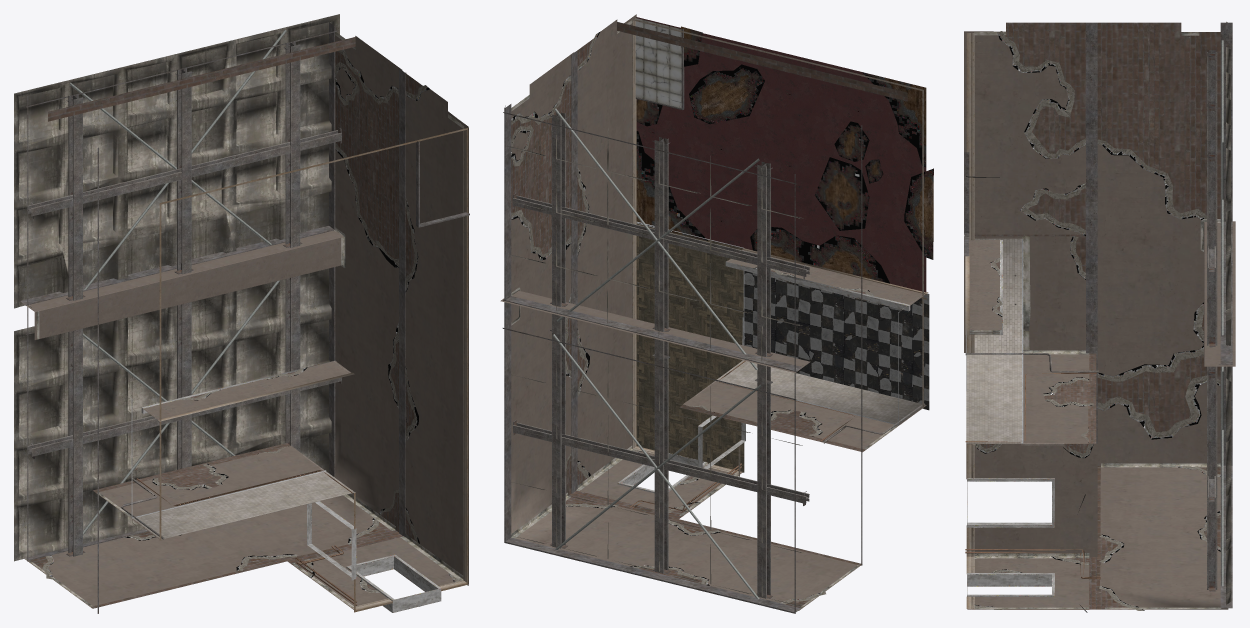
Rendered from apartment_large.glb.
3 renders of one model, left to right at view 1: azimuth 30°, elevation 25°; view 2: azimuth 150°, elevation 25°; view 3: azimuth 270°, elevation 25°, orthographic. The views are drawn at different scales.
Visible parts, largest first — view 1: apartment_large_LOD0, apartment_large_decals_LOD0; view 2: apartment_large_LOD0, apartment_large_decals_LOD0; view 3: apartment_large_LOD0, apartment_large_decals_LOD0.
Boxes of the visible parts, bbox=[...] form: apartment_large_LOD0: bbox=[14, 14, 469, 613]; apartment_large_decals_LOD0: bbox=[25, 32, 464, 607]; apartment_large_LOD0: bbox=[500, 14, 929, 613]; apartment_large_decals_LOD0: bbox=[511, 20, 933, 611]; apartment_large_LOD0: bbox=[964, 21, 1235, 612]; apartment_large_decals_LOD0: bbox=[969, 31, 1221, 610].
Bounding box in the file's own units: 9 × 12.65 × 6.84.
Materials: 14 (14 with a texture image).
